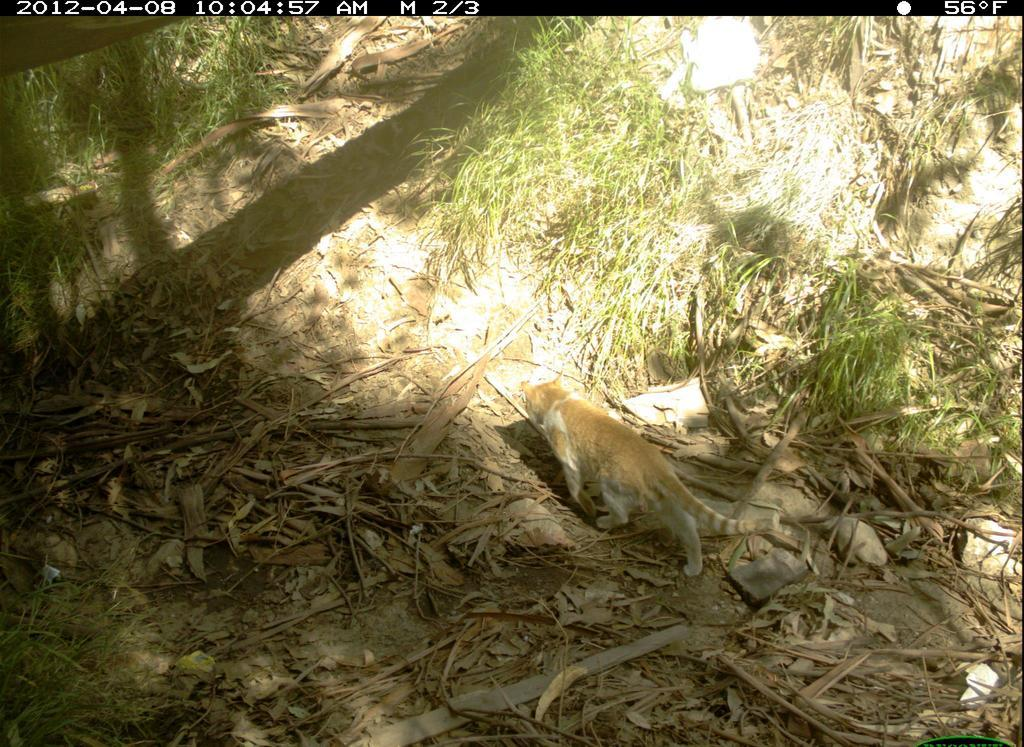cat: (514, 368, 788, 585)
